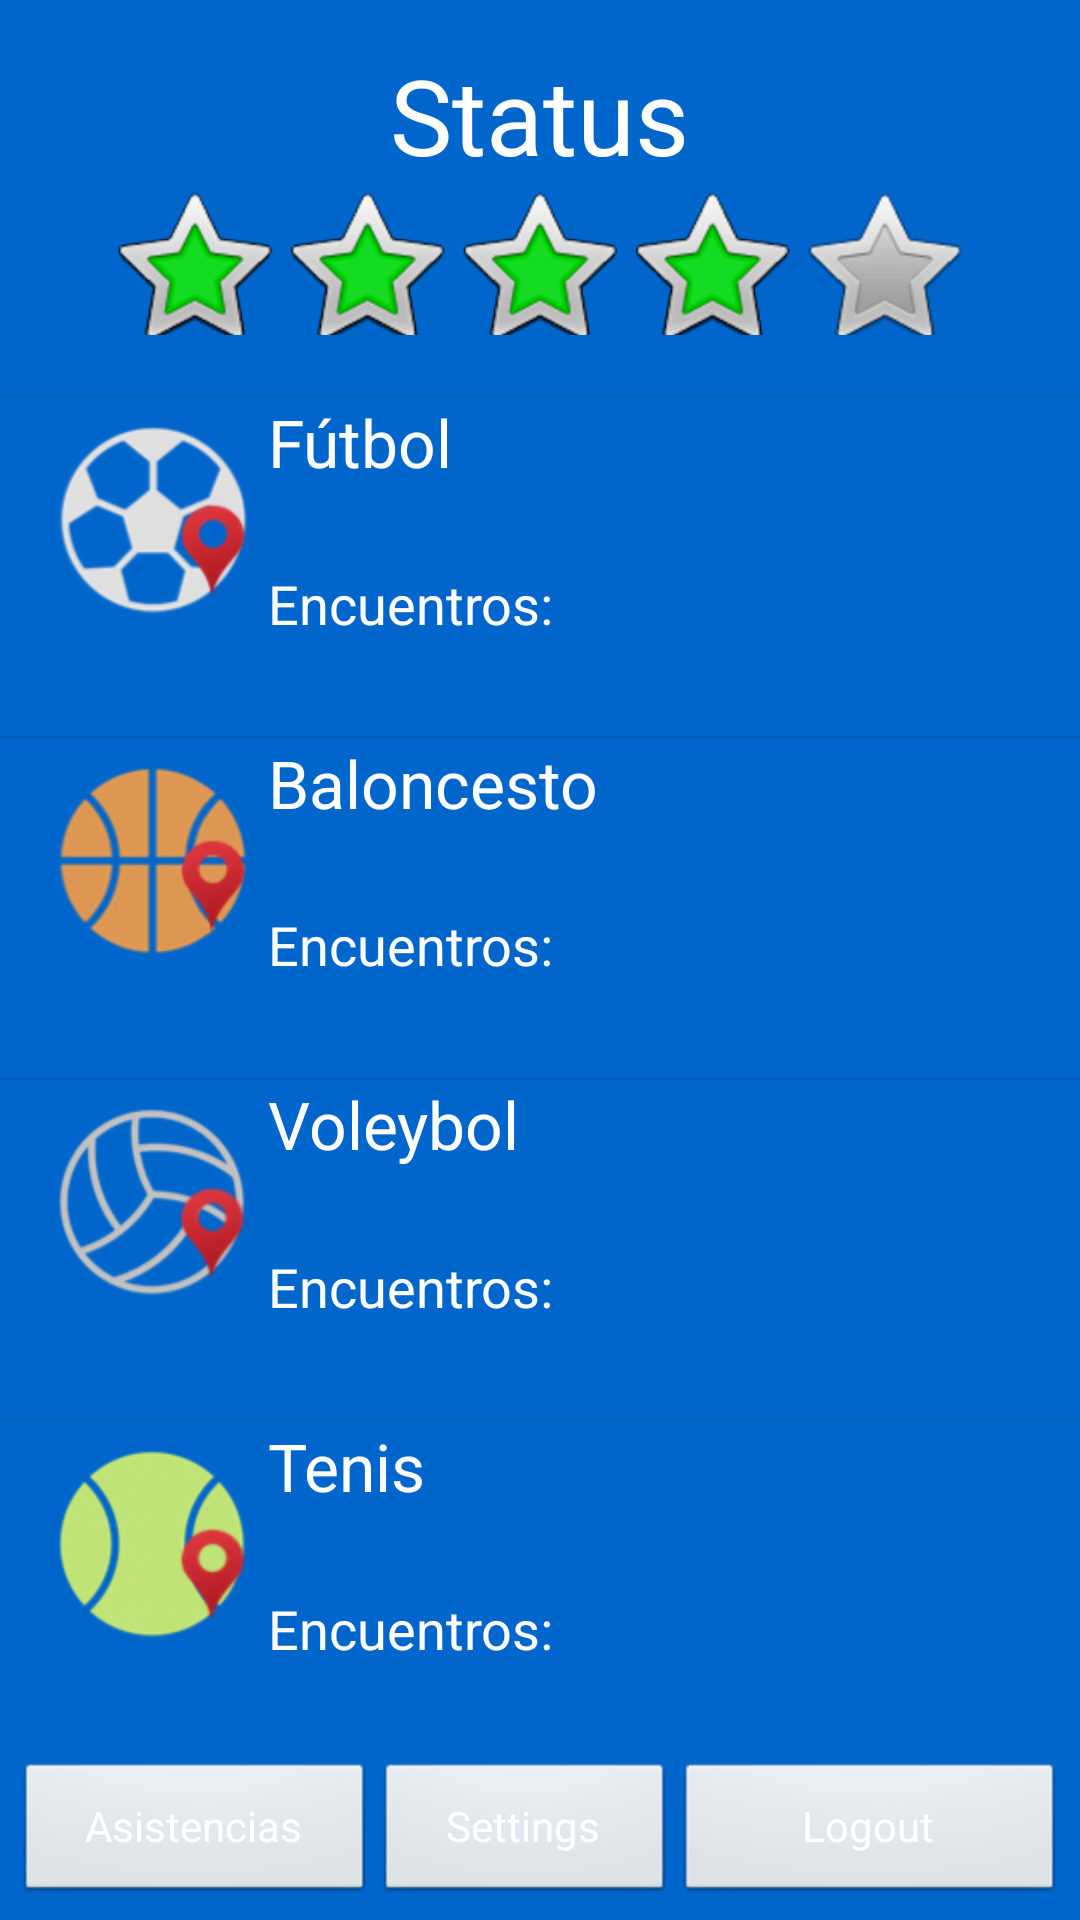

Locate icon controls on the screen. Image size 1080px x 1920px, boxes as (x1, y1, x2, y2).
ball basket: (60, 768, 246, 954)
ball soccer: (60, 427, 247, 613)
ball tennis: (59, 1451, 245, 1637)
ball volei: (59, 1109, 245, 1295)
